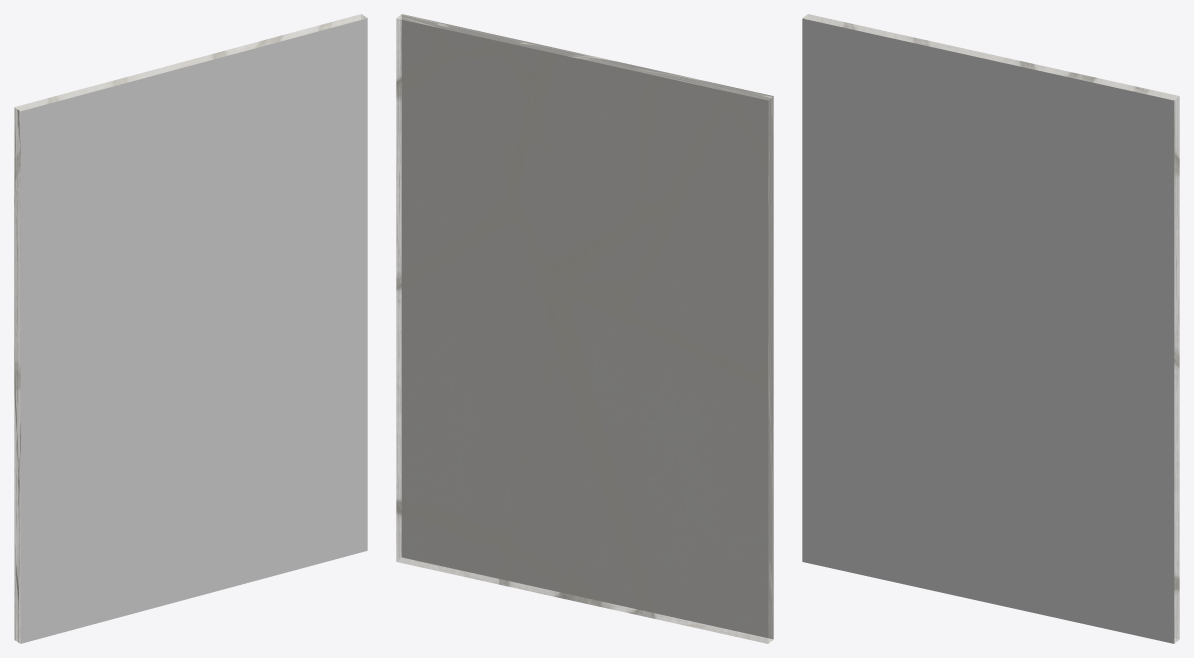
The model's file is glass-cards-draco-transformed.glb.
3 views of the same model, side by side, from view 1: azimuth 30°, elevation 25°; view 2: azimuth 150°, elevation 25°; view 3: azimuth 330°, elevation 25° (orthographic). The views are drawn at different scales.
Parts seen in each view (by area): view 1: Cube.002; view 2: Cube.002; view 3: Cube.002.
Boxes of the visible parts, <box> form: Cube.002: <box>14,14,367,643</box>; Cube.002: <box>396,14,773,643</box>; Cube.002: <box>802,14,1179,643</box>.
Bounding box in the file's own units: 0.7606 × 1.09 × 0.0539.
2 materials, 1 textured.
